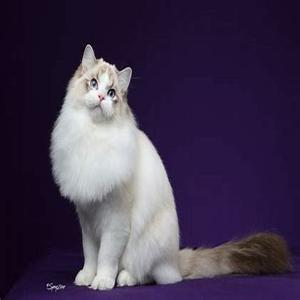cat: (49, 45, 140, 161)
